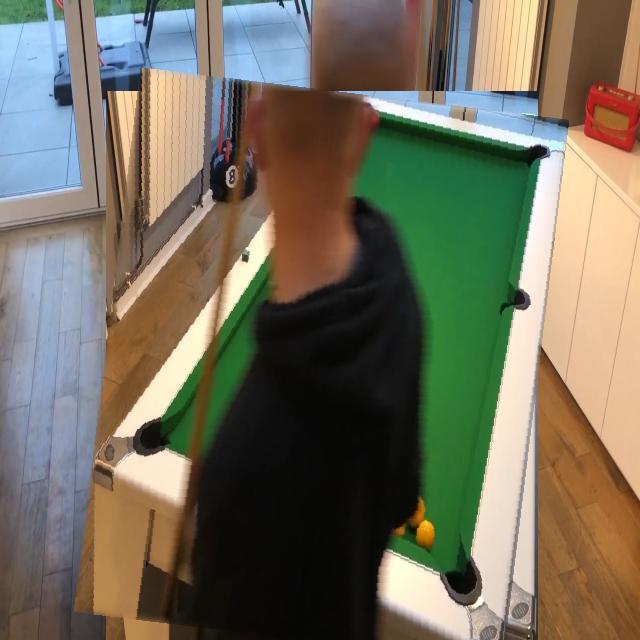Ball: (188, 505, 208, 536), (202, 484, 217, 513)
Billiard table: (90, 79, 553, 640)
